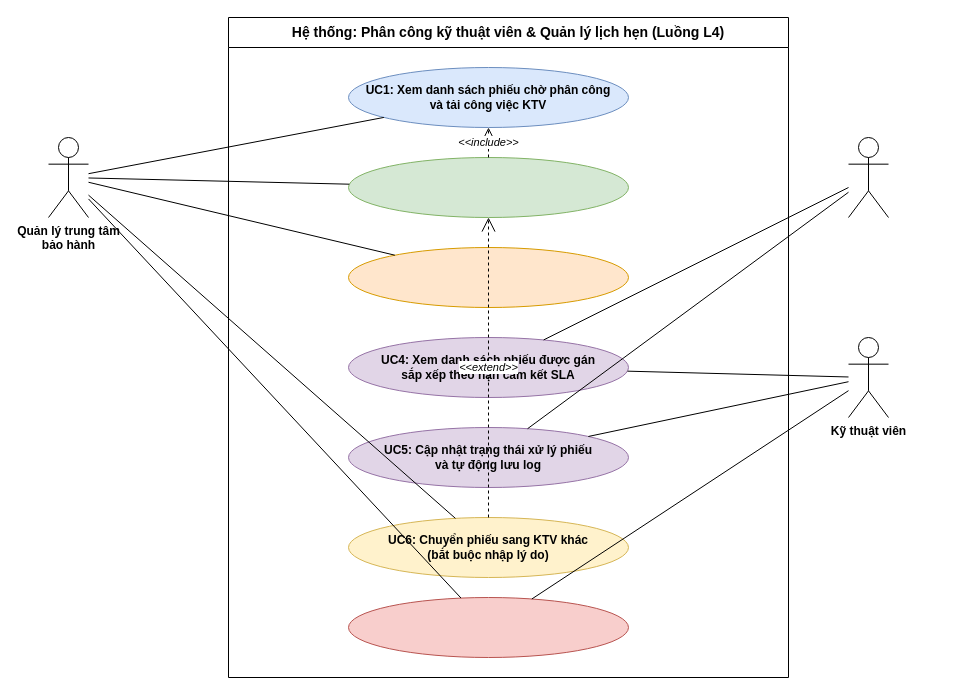
The diagram is 953 pixels wide and 695 high, and some of its shapes have lost their labels. The shapes that lost their labels are listed below. From the top down, each one's box as (x1, y1, x2, y2) in pixels, then its label:
(348, 156, 628, 218): UC2: Gợi ý và phân công kỹ thuật viên cho phiếu
(848, 136, 888, 218): Hệ thống cảnh báo SLA (Timer/Thời gian)
(348, 246, 628, 308): UC3: Đặt và quản lý lịch hẹn giao – nhận máy
(348, 596, 628, 658): UC7: Tra cứu lịch sử sửa chữa thiết bị theo IMEI / Serial
